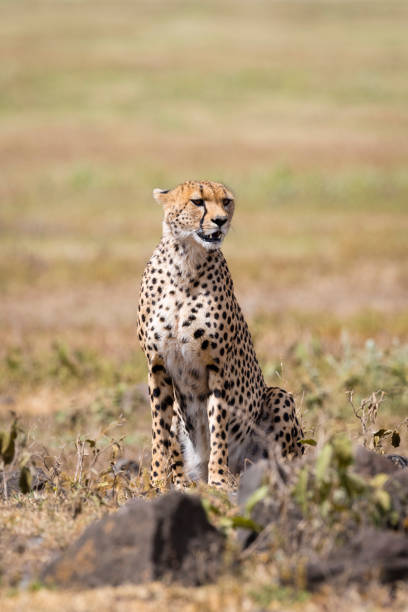cheetah: (132, 164, 250, 262)
